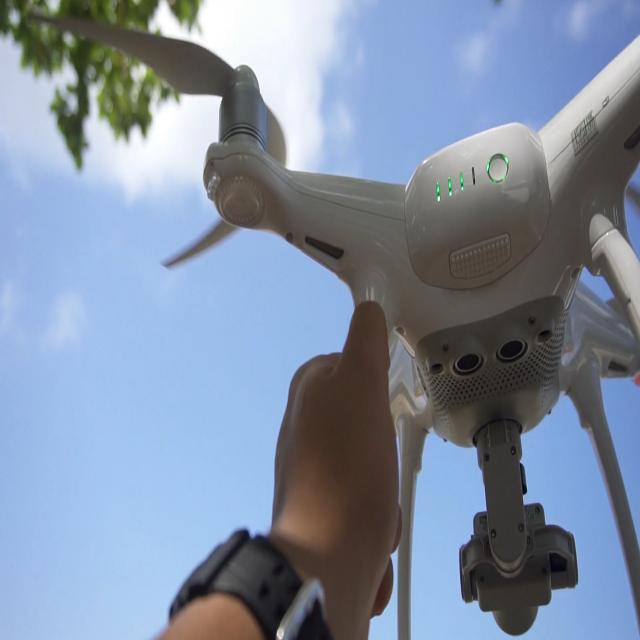Drone: (143, 3, 640, 640)
